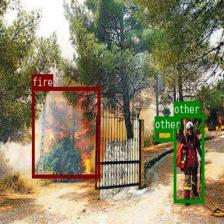fire: (32, 87, 100, 177)
